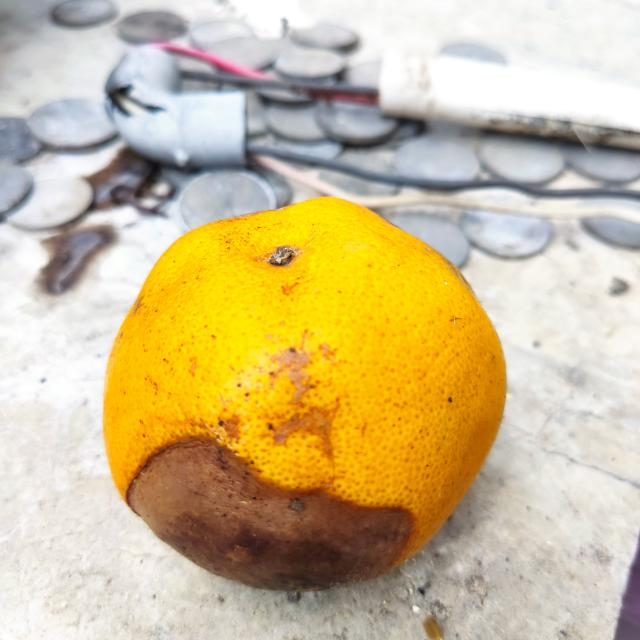orange: (101, 194, 509, 593)
